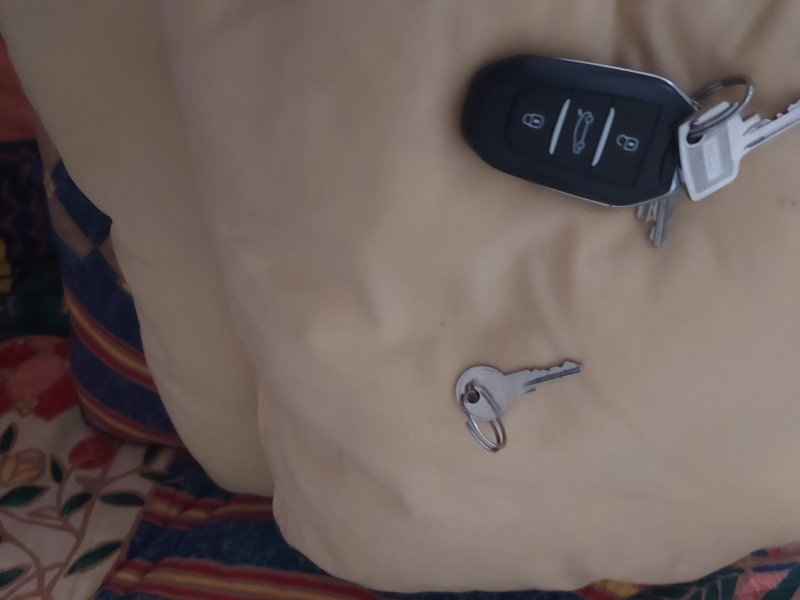carkey: (461, 48, 701, 212)
key: (682, 77, 798, 206), (453, 350, 587, 424), (633, 180, 685, 252)
